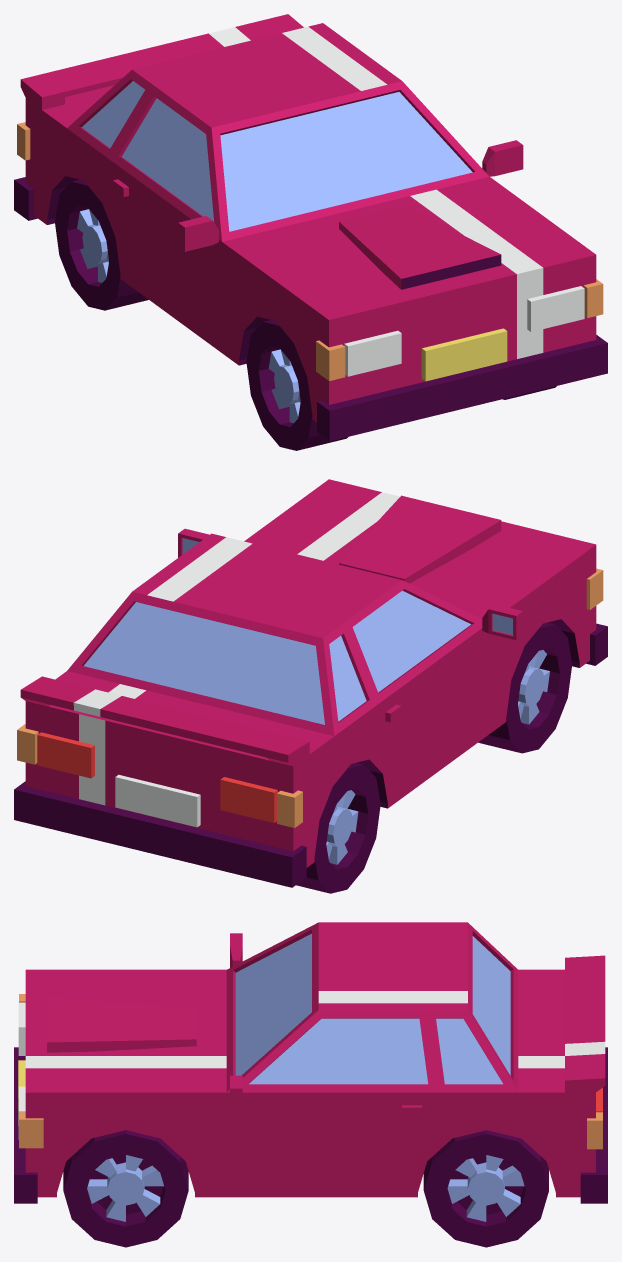
The model's file is car2.glb.
The picture shows the model from 3 angles, top to bottom: view 1: azimuth 30°, elevation 25°; view 2: azimuth 150°, elevation 25°; view 3: azimuth 270°, elevation 25°; orthographic projection. The views are drawn at different scales.
Parts seen in each view (by area): view 1: car.010; view 2: car.010; view 3: car.010.
Part boxes in pixels (x1,y1,x2,y2): car.010: (14,14,607,450); car.010: (14,479,607,893); car.010: (14,922,607,1247).
Bounding box in the file's own units: 1.35 × 0.9014 × 2.19.
Materials: 1 (1 with a texture image).
